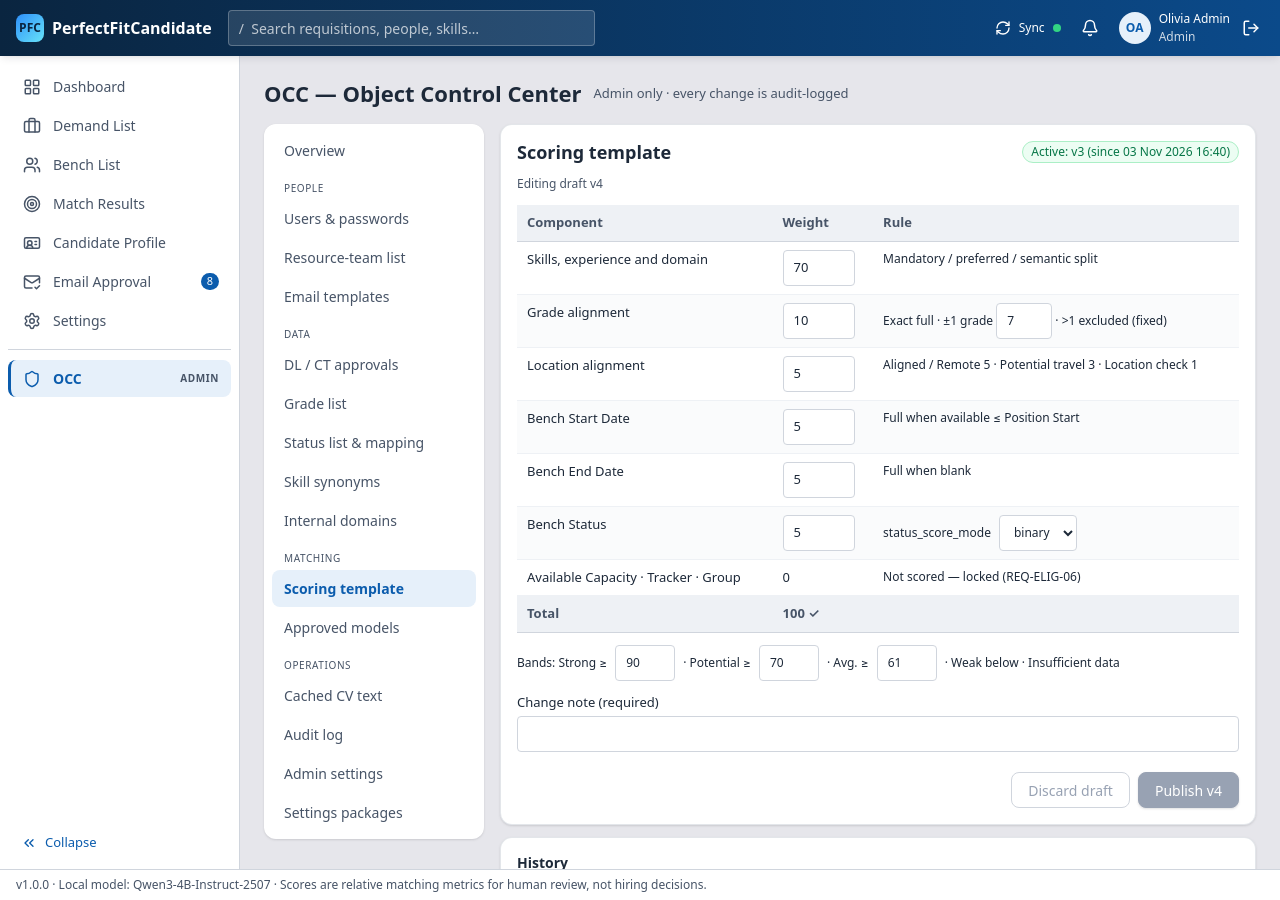
Test: pages › validates scoring weights total 100 before publishing (REQ-SCR-01)
The width and height of the screenshot is (1280, 900).
Replace the text in the number field named "Skills, experience and domain weight" with "60" at (819, 268), box [783,250,855,286]
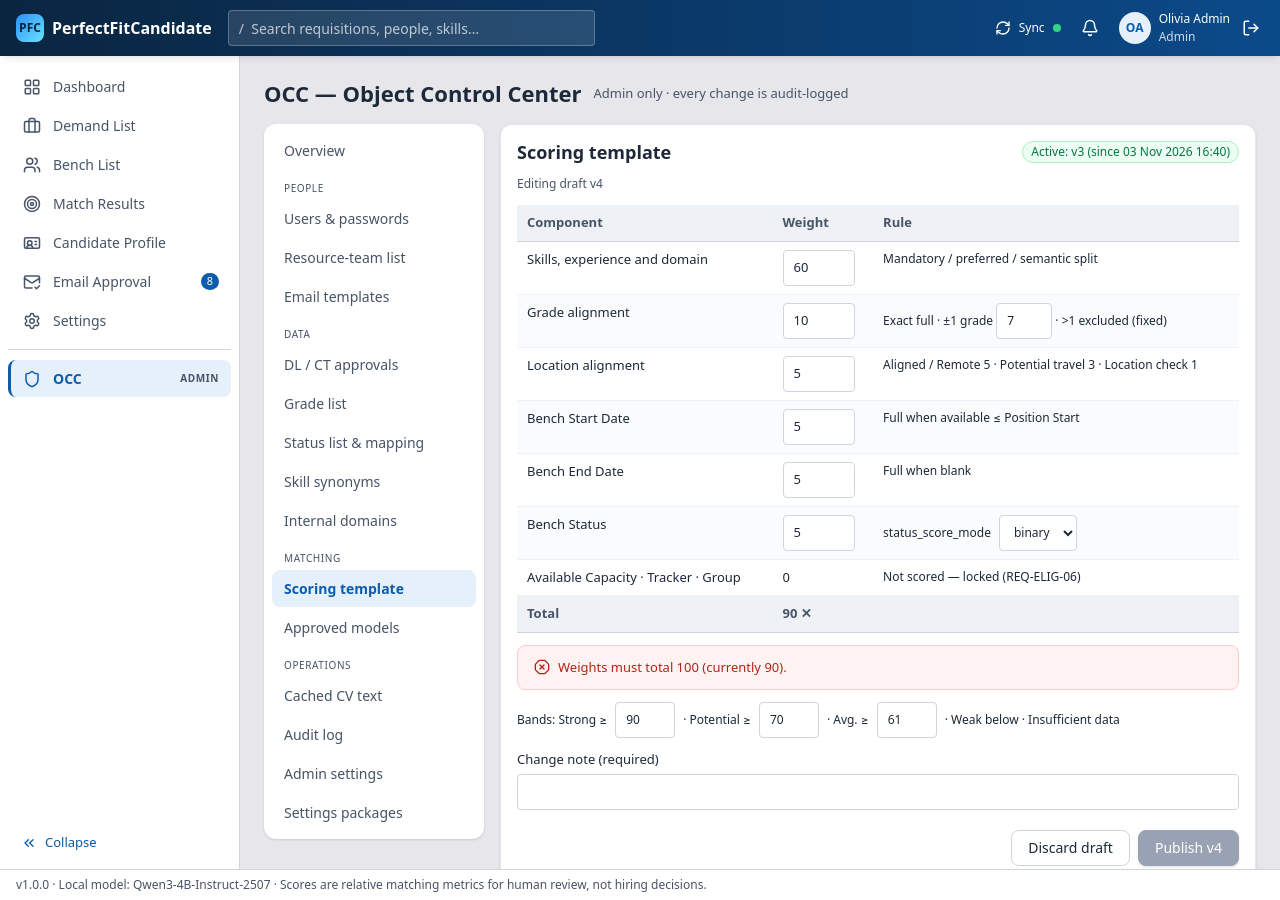
expect the button "Publish v4" is disabled: met, box [1138,830,1239,866]
expect the column heading with test id "weight-total" shows "90": met, box [783,604,798,622]
